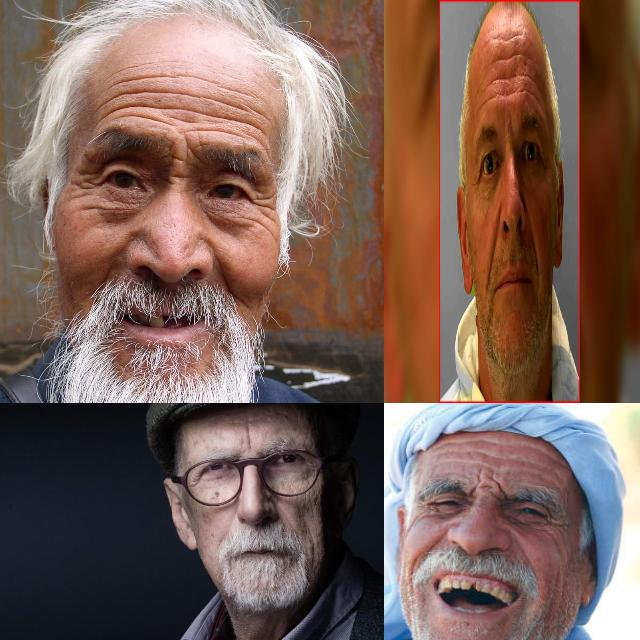crows_feet: (251, 186, 277, 240), (70, 170, 104, 210), (544, 510, 566, 534), (412, 504, 436, 520), (188, 471, 200, 491), (474, 167, 484, 188)
forehead: (241, 96, 279, 148), (192, 88, 234, 134), (151, 74, 185, 128), (100, 78, 140, 118), (488, 66, 526, 102), (494, 34, 524, 74), (440, 450, 482, 470), (496, 451, 536, 469), (494, 436, 536, 452), (444, 434, 482, 451), (530, 85, 541, 115), (477, 95, 486, 116)
frown_line: (239, 425, 261, 451), (488, 474, 510, 500), (464, 476, 482, 504)
gummy_smile: (210, 252, 238, 290), (96, 254, 120, 294), (419, 534, 443, 558), (518, 547, 536, 577), (530, 224, 540, 277), (487, 229, 495, 278)
masseter: (306, 533, 320, 567)
